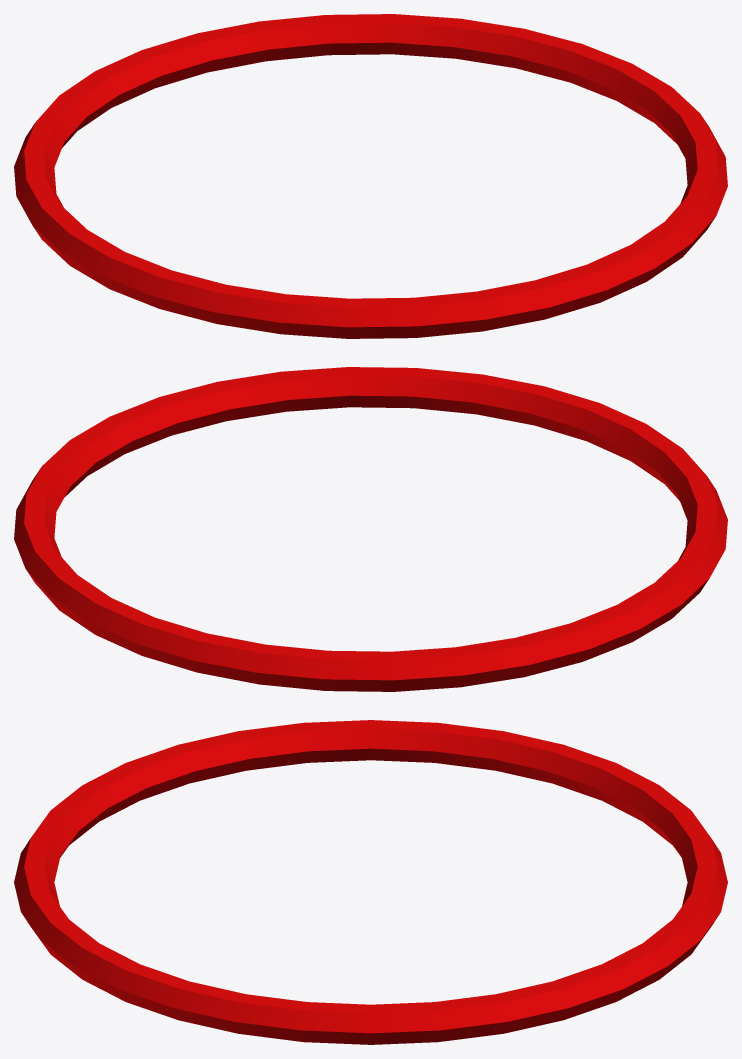
The picture shows the model from 3 angles, top to bottom: view 1: azimuth 30°, elevation 25°; view 2: azimuth 150°, elevation 25°; view 3: azimuth 270°, elevation 25°; orthographic projection.
Visible parts, largest first — view 1: Torus.001; view 2: Torus.001; view 3: Torus.001.
Boxes of the visible parts, x1,y1,x2,y2 form: Torus.001: [14, 14, 727, 338]; Torus.001: [14, 367, 727, 691]; Torus.001: [14, 720, 727, 1044].
Size of the model in its own units: 106 by 5.2 by 106.
